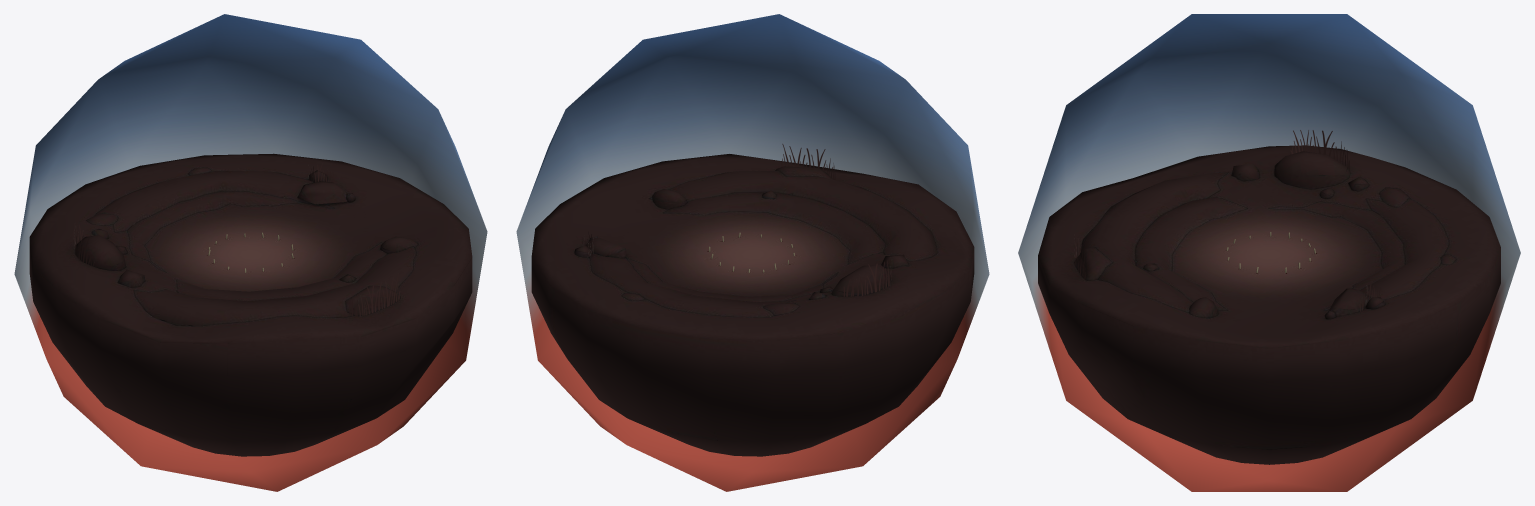
3 views of the same model, side by side, from view 1: azimuth 30°, elevation 25°; view 2: azimuth 150°, elevation 25°; view 3: azimuth 270°, elevation 25° (orthographic). The views are drawn at different scales.
Visible parts, largest first — view 1: ground.005, envirosphere.003, GRASS.005; view 2: ground.005, envirosphere.003, GRASS.004; view 3: ground.005, envirosphere.003, GRASS.004.
Part boxes in pixels (<box>): ground.005: <box>29,153,472,456</box>; envirosphere.003: <box>14,14,487,491</box>; GRASS.005: <box>348,273,401,316</box>; ground.005: <box>531,154,974,456</box>; envirosphere.003: <box>516,14,989,491</box>; GRASS.004: <box>843,261,891,296</box>; ground.005: <box>1038,145,1500,464</box>; envirosphere.003: <box>1018,14,1520,491</box>; GRASS.004: <box>1290,130,1349,170</box>.
Size of the model in its own units: 13.02 by 13.69 by 13.69.
Materials: 4 (3 with a texture image).
